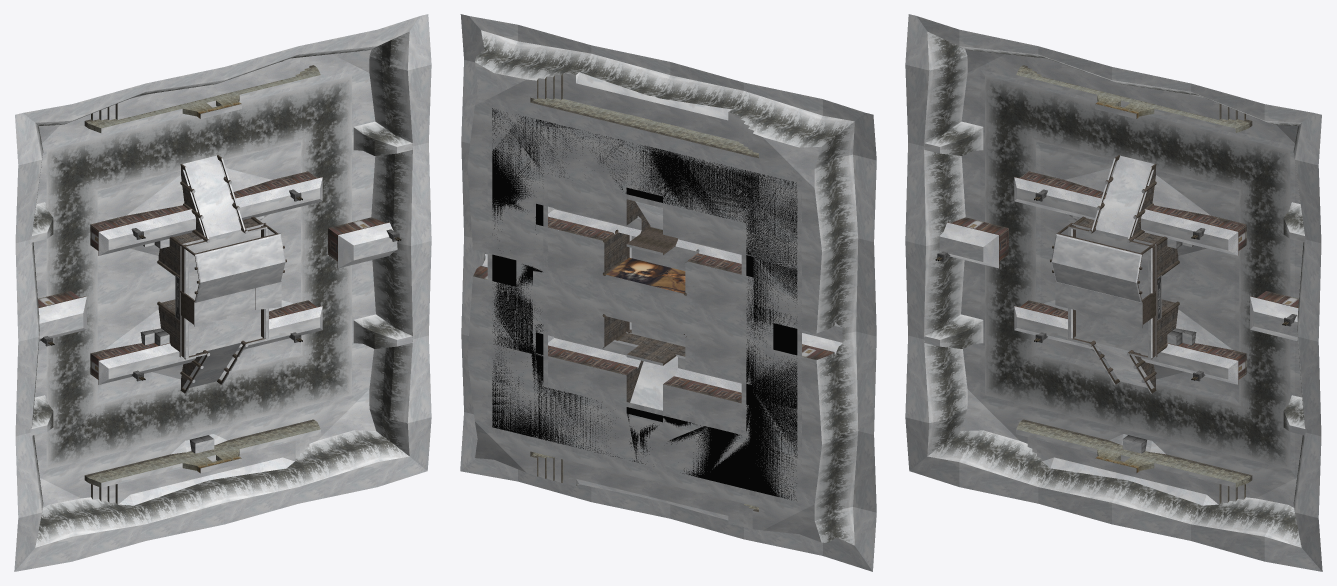
File: css_snow2.obj
The picture shows the model from 3 angles, left to right: view 1: azimuth 30°, elevation 25°; view 2: azimuth 150°, elevation 25°; view 3: azimuth 330°, elevation 25°; orthographic projection.
Parts seen in each view (by area): view 1: BSP_Object.model_0, BSP_Object.model_3, BSP_Object.model_7; view 2: BSP_Object.model_0, BSP_Object.model_3; view 3: BSP_Object.model_0, BSP_Object.model_3, BSP_Object.model_7.
Part boxes in pixels (bbox=[...]): BSP_Object.model_0: bbox=[14, 14, 431, 571]; BSP_Object.model_3: bbox=[42, 69, 356, 475]; BSP_Object.model_7: bbox=[194, 281, 281, 326]; BSP_Object.model_0: bbox=[460, 14, 876, 571]; BSP_Object.model_3: bbox=[487, 103, 801, 505]; BSP_Object.model_0: bbox=[905, 14, 1322, 571]; BSP_Object.model_3: bbox=[980, 69, 1294, 475]; BSP_Object.model_7: bbox=[1055, 281, 1142, 328].
Bounding box in the file's own units: 2080 × 2200 × 383.
23 materials, 23 textured.
